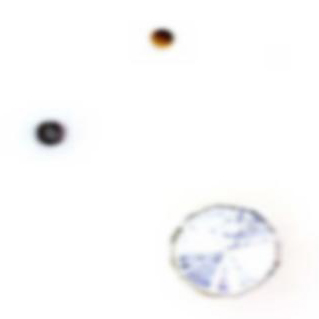abnormal: (162, 185, 305, 308)
cancer: (23, 102, 93, 168)
normal: (137, 18, 188, 62)
